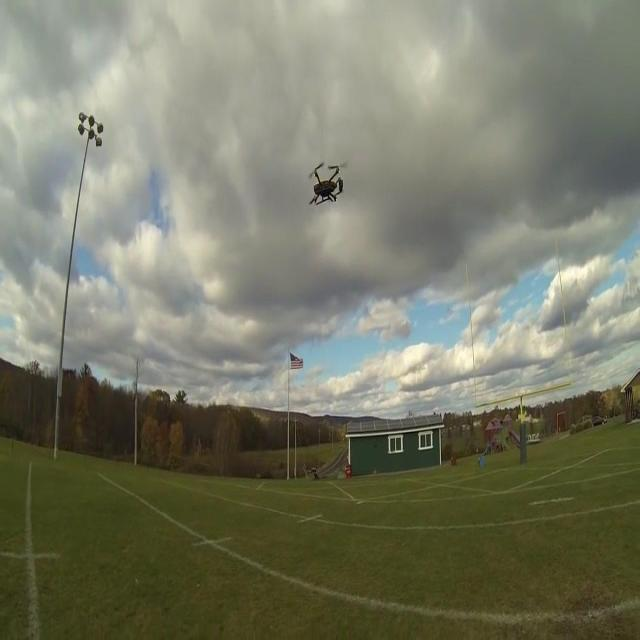drone: (307, 160, 345, 209)
